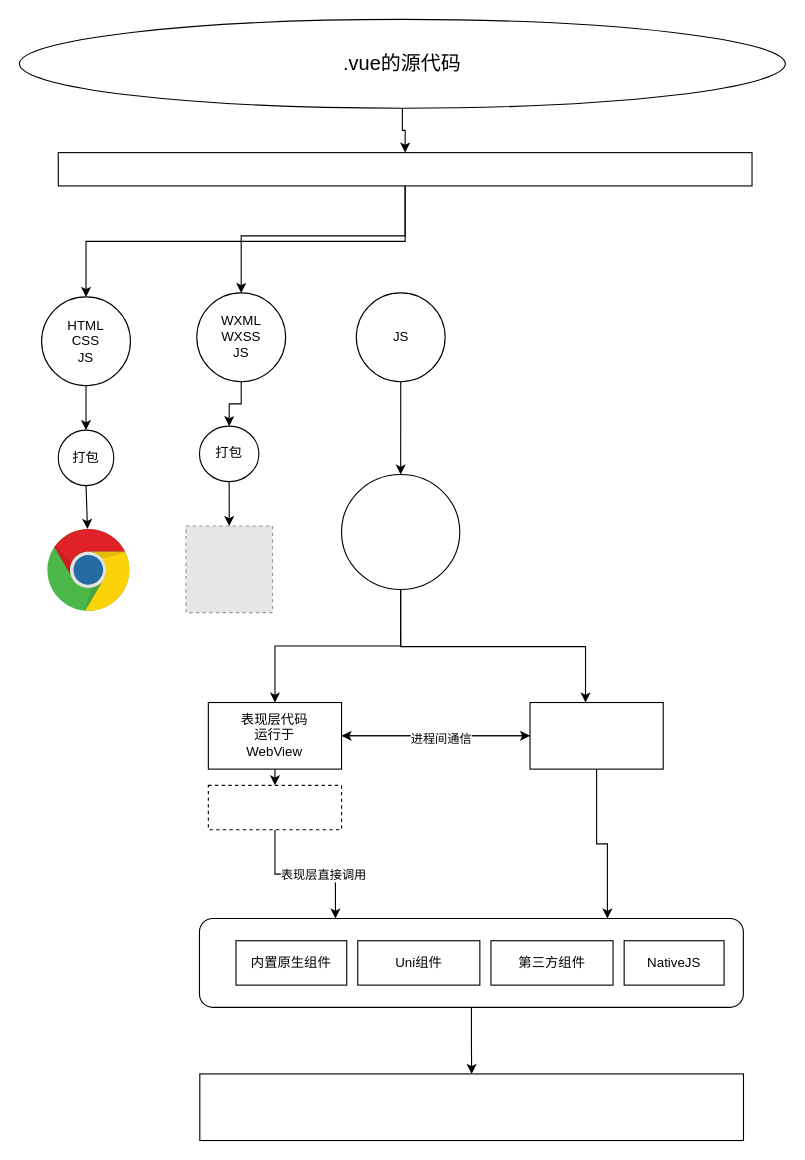
This 805x1160 diagram has some shape labels left out. Grey dashed boxes stand in for pictures. Each missing label, with the box of its shape:
IOS/Android原生API: (199, 1073, 743, 1141)
JS代码 JS Engine JSBridge Uni 组件 第三方组件: (340, 473, 460, 590)
可选 RenderJS: (207, 784, 342, 830)
编译器: (57, 152, 752, 186)
逻辑层代码 运行于 JSEngine JSBridge: (529, 701, 663, 769)
